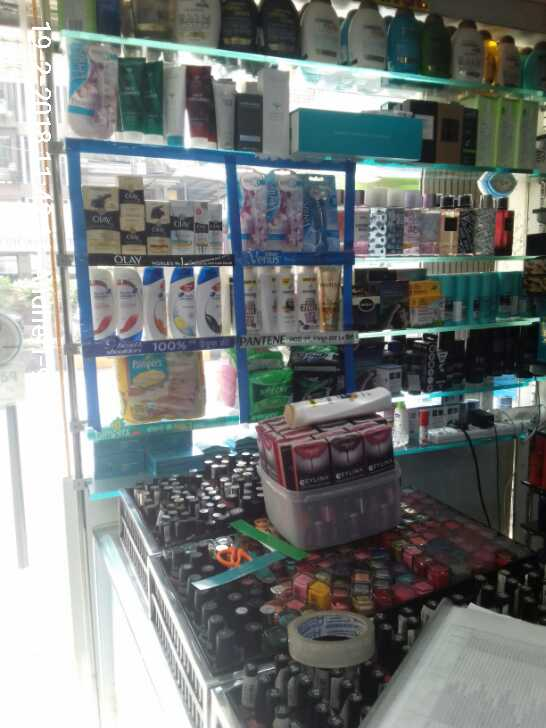venus: (268, 172, 303, 249), (303, 175, 335, 249), (241, 172, 268, 248)
